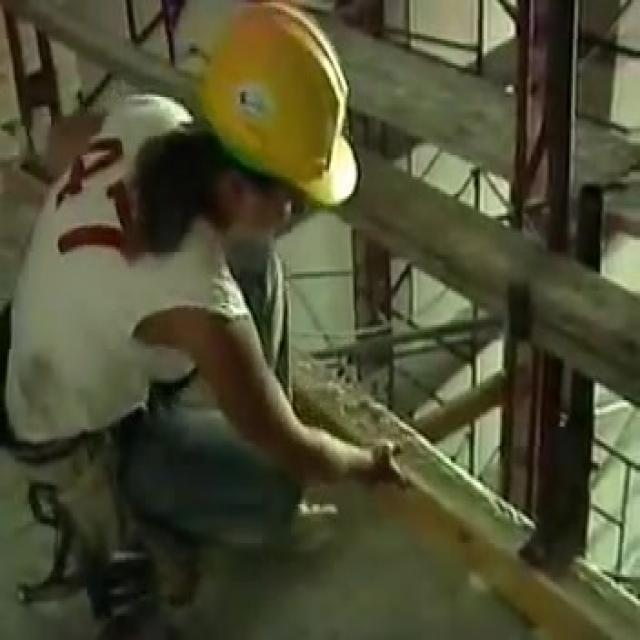Safety-Helmet: (173, 2, 376, 223)
